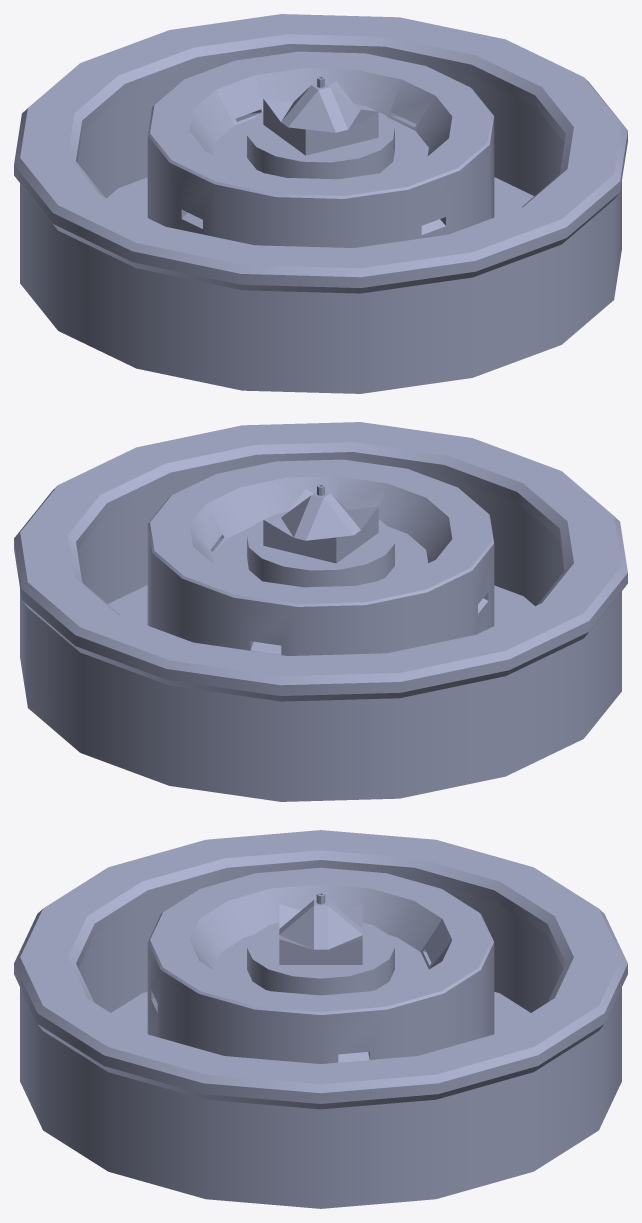
The model's file is StreetFont1.fbx.
The picture shows the model from 3 angles, top to bottom: view 1: azimuth 30°, elevation 25°; view 2: azimuth 150°, elevation 25°; view 3: azimuth 270°, elevation 25°; orthographic projection.
Parts seen in each view (by area): view 1: StreetFont1; view 2: StreetFont1; view 3: StreetFont1.
Boxes of the visible parts, left/top/right/bottom form: StreetFont1: left=14, top=14, right=627, bottom=393; StreetFont1: left=14, top=422, right=627, bottom=801; StreetFont1: left=14, top=830, right=627, bottom=1208.
Bounding box in the file's own units: 510 × 172 × 510.
